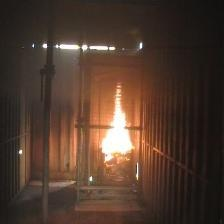fire: (101, 85, 140, 159)
